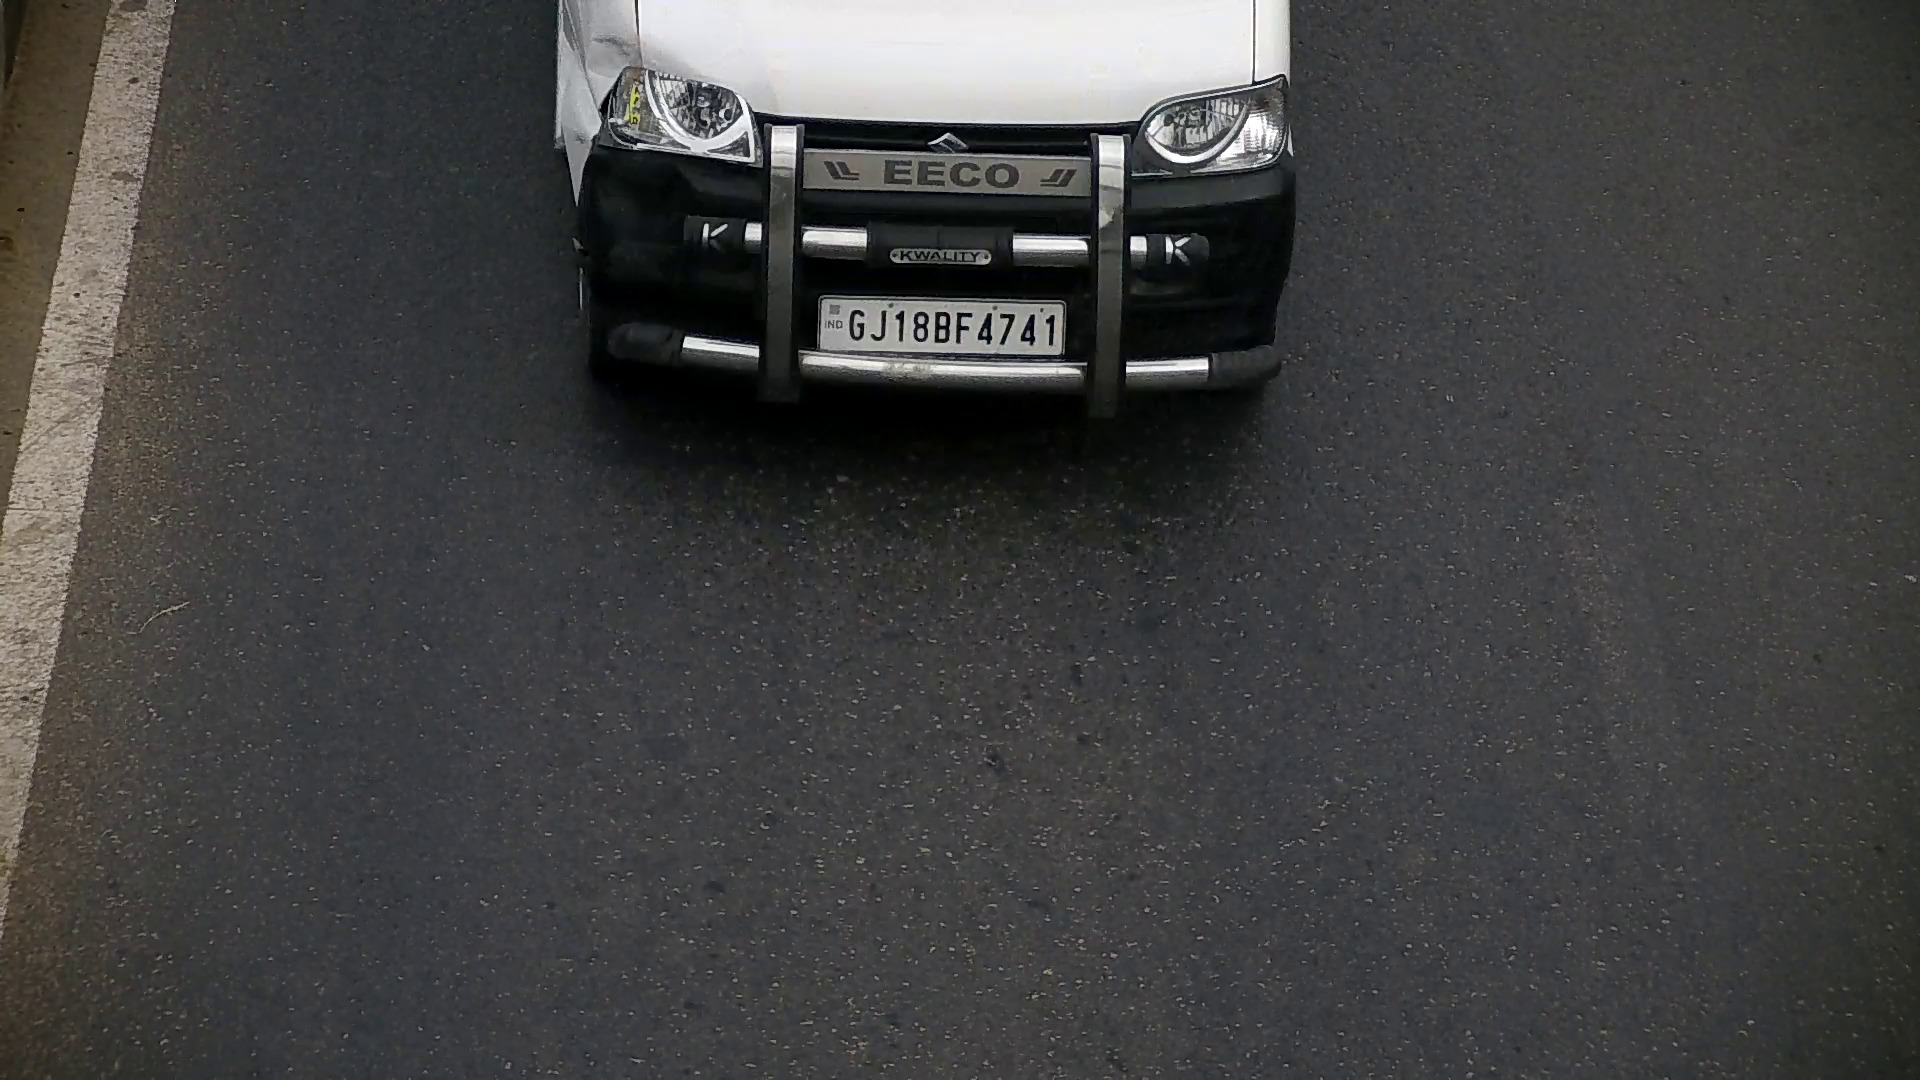numberplate: (816, 291, 1070, 356)
